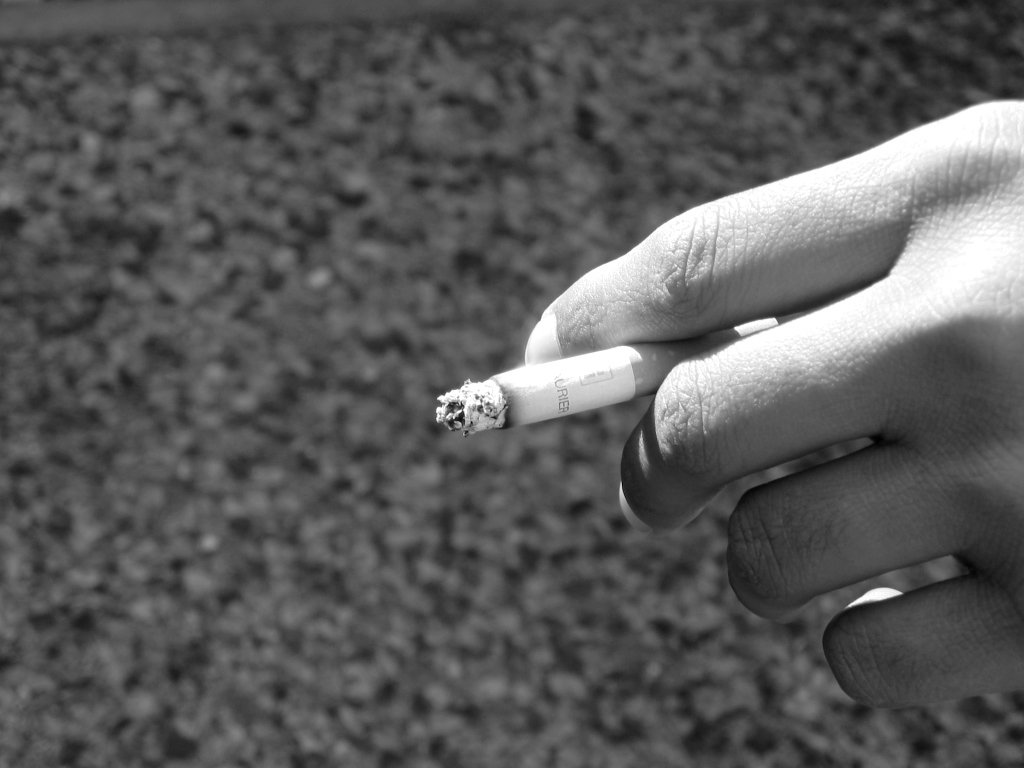cigarette: (433, 317, 779, 438)
